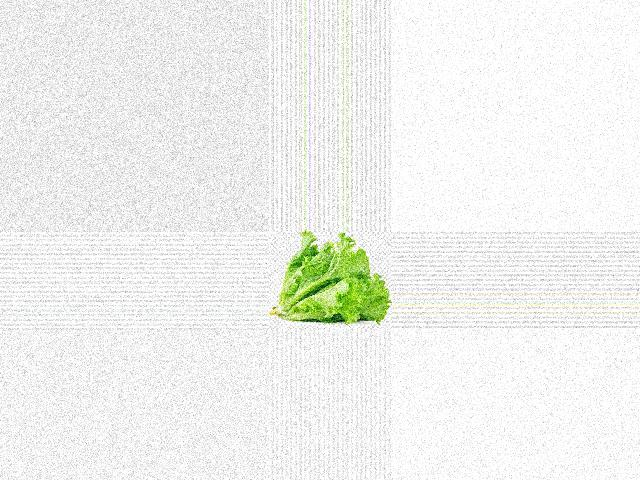lettuce: (268, 231, 389, 321)
